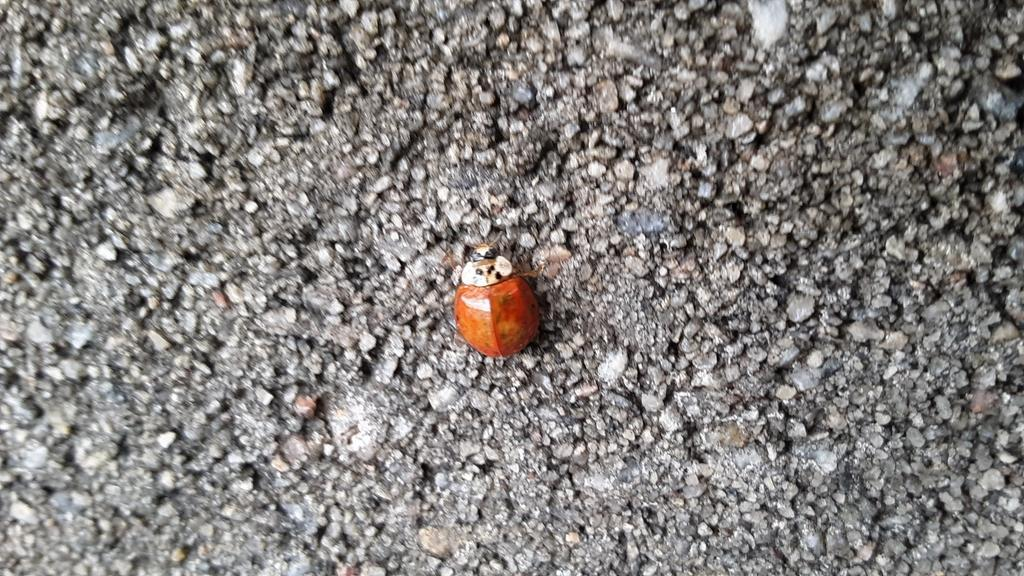ladybug: (451, 234, 549, 364)
